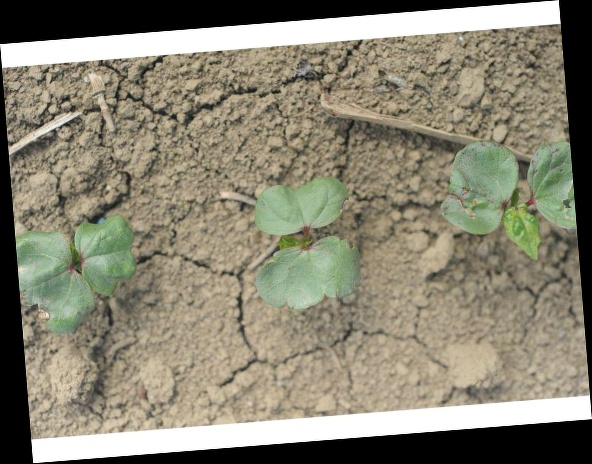cotton: (440, 138, 575, 263), (252, 179, 359, 308), (20, 218, 136, 332)
